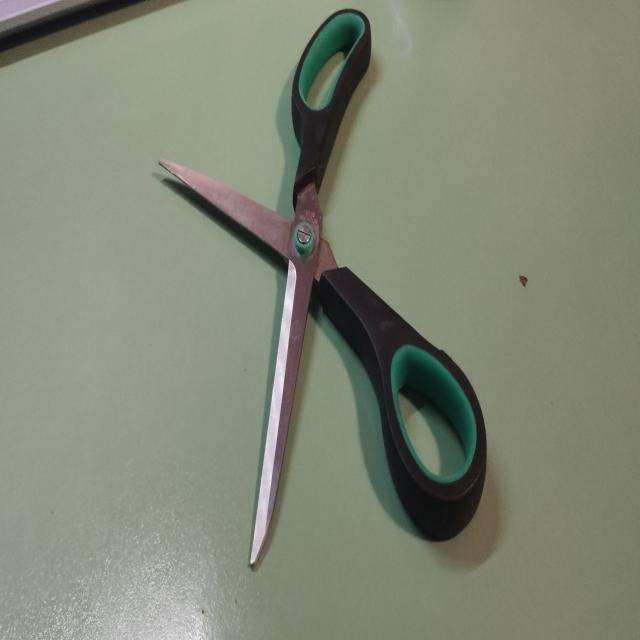tesoura: (152, 2, 492, 578)
